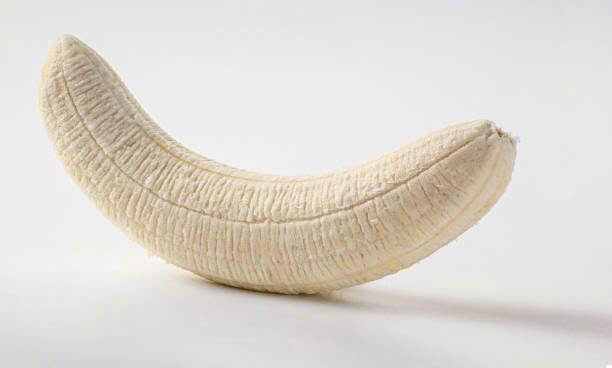banana: (26, 23, 559, 297)
